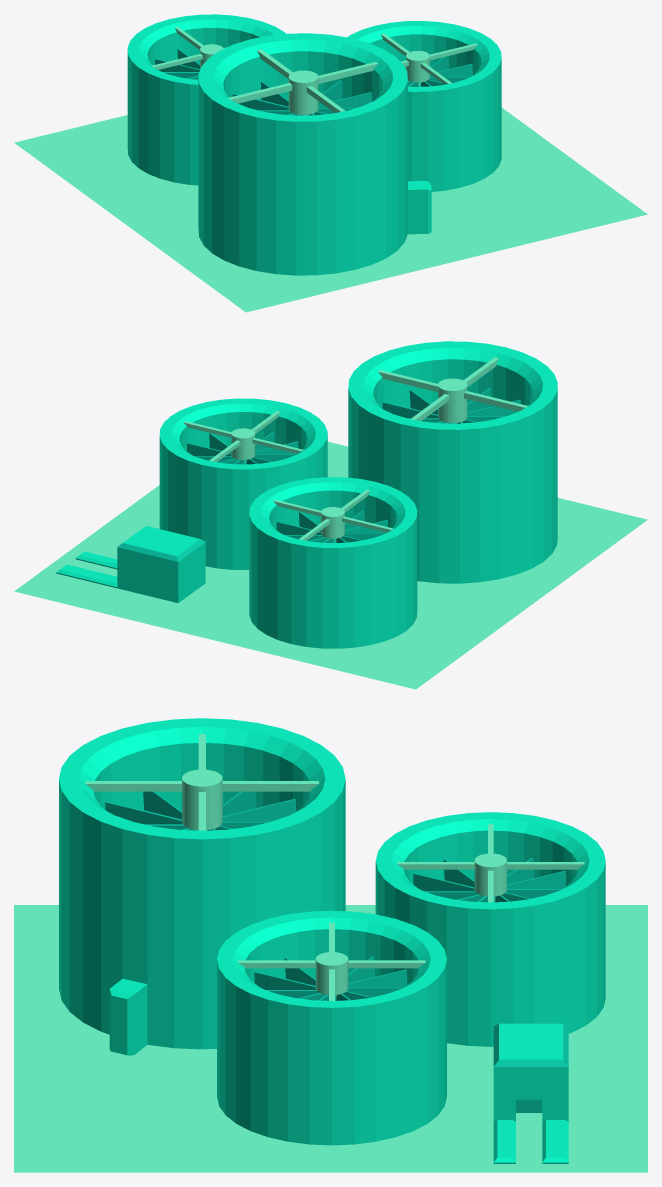
The model's file is purification_green.fbx.
The picture shows the model from 3 angles, top to bottom: view 1: azimuth 30°, elevation 25°; view 2: azimuth 150°, elevation 25°; view 3: azimuth 270°, elevation 25°; orthographic projection. The views are drawn at different scales.
Visible parts, largest first — view 1: Cylinder.032, Plane, Cylinder.030, Cylinder.037, Cube.042, Cube.049, Cube.034, Cube.037, Cube.050, Cube.054; view 2: Cylinder.032, Plane, Cylinder.037, Cylinder.030, Plane.001, Cube.042, Cube.034, Cube.050, Cube.049, Cube.037, Cube.054; view 3: Plane, Cylinder.032, Cylinder.030, Cylinder.037, Plane.001, Cube.042, Cube.049, Cube.037, Cube.054, Cube.034, Cube.050.
Boxes of the visible parts, x1=… form: Cylinder.032: x1=198, y1=33, x2=431, y2=275; Plane: x1=14, y1=107, x2=647, y2=312; Cylinder.030: x1=347, y1=21, x2=501, y2=191; Cylinder.037: x1=127, y1=14, x2=285, y2=185; Cube.042: x1=228, y1=49, x2=377, y2=115; Cube.049: x1=232, y1=80, x2=371, y2=115; Cube.034: x1=381, y1=33, x2=477, y2=86; Cube.037: x1=408, y1=56, x2=472, y2=86; Cube.050: x1=151, y1=27, x2=225, y2=69; Cube.054: x1=155, y1=48, x2=199, y2=78; Cylinder.032: x1=348, y1=341, x2=557, y2=583; Plane: x1=14, y1=441, x2=647, y2=689; Cylinder.037: x1=249, y1=477, x2=417, y2=648; Cylinder.030: x1=159, y1=398, x2=327, y2=569; Plane.001: x1=56, y1=526, x2=205, y2=603; Cube.042: x1=378, y1=357, x2=527, y2=423; Cube.034: x1=183, y1=411, x2=303, y2=463; Cube.050: x1=273, y1=489, x2=393, y2=542; Cube.049: x1=382, y1=388, x2=520, y2=423; Cube.037: x1=187, y1=432, x2=298, y2=464; Cube.054: x1=285, y1=510, x2=387, y2=542; Plane: x1=14, y1=905, x2=647, y2=1172; Cylinder.032: x1=59, y1=718, x2=345, y2=1055; Cylinder.030: x1=217, y1=910, x2=446, y2=1145; Cylinder.037: x1=375, y1=812, x2=605, y2=1046; Plane.001: x1=493, y1=1023, x2=568, y2=1163; Cube.042: x1=85, y1=733, x2=319, y2=830; Cube.049: x1=105, y1=791, x2=296, y2=830; Cube.037: x1=254, y1=956, x2=407, y2=1000; Cube.054: x1=413, y1=858, x2=565, y2=902; Cube.034: x1=238, y1=922, x2=425, y2=1000; Cube.050: x1=397, y1=824, x2=584, y2=902.
Bounding box in the file's own units: 1000 × 377 × 1000.
